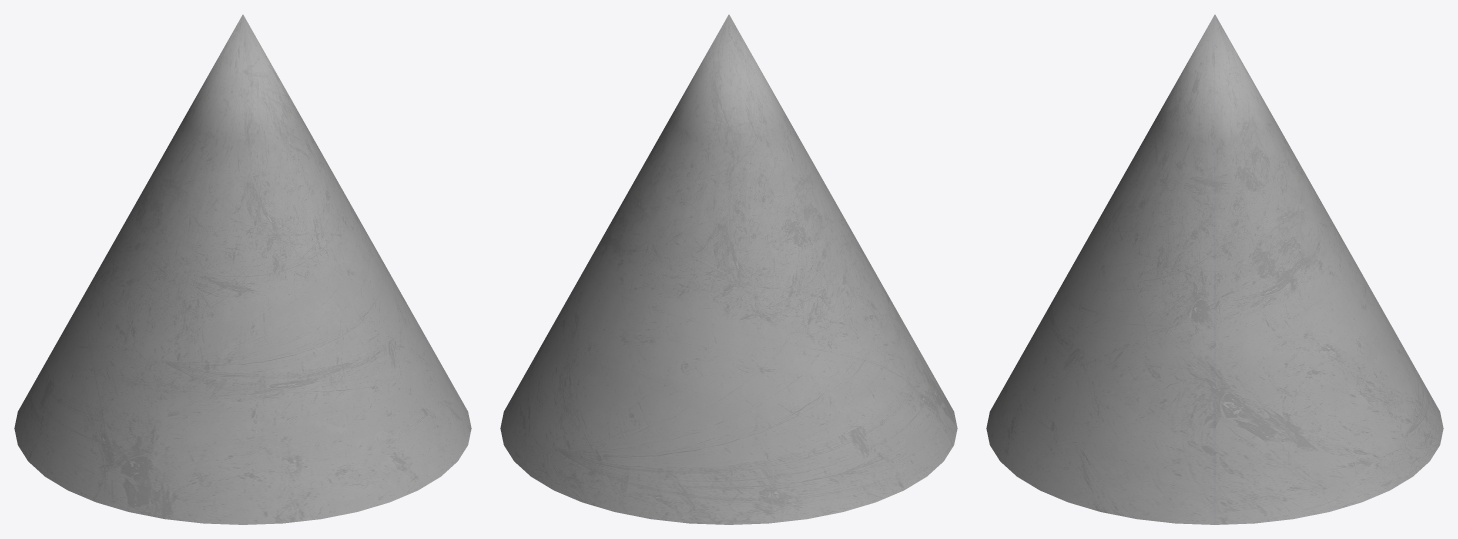
3 views of the same model, side by side, from view 1: azimuth 30°, elevation 25°; view 2: azimuth 150°, elevation 25°; view 3: azimuth 270°, elevation 25° (orthographic).
Visible parts, largest first — view 1: Cone; view 2: Cone; view 3: Cone.
Boxes of the visible parts, x1=… form: Cone: x1=14, y1=14, x2=471, y2=524; Cone: x1=500, y1=14, x2=957, y2=524; Cone: x1=986, y1=14, x2=1443, y2=524.
Bounding box in the file's own units: 1.72 × 1.72 × 1.72.
Materials: 1 (1 with a texture image).
